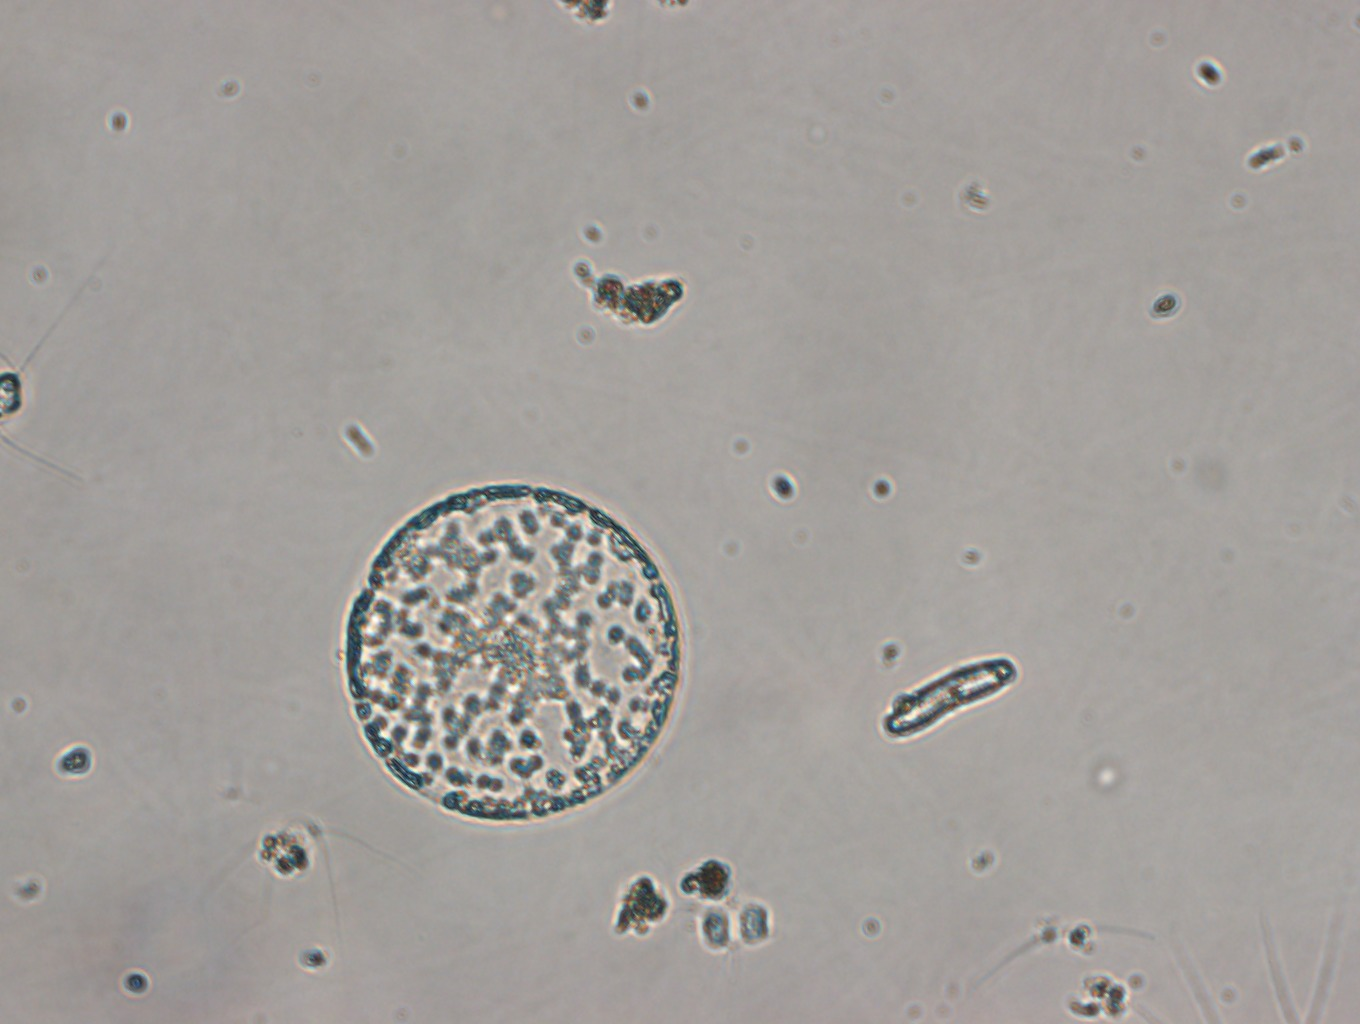coscinodiscus: (335, 481, 683, 826)
